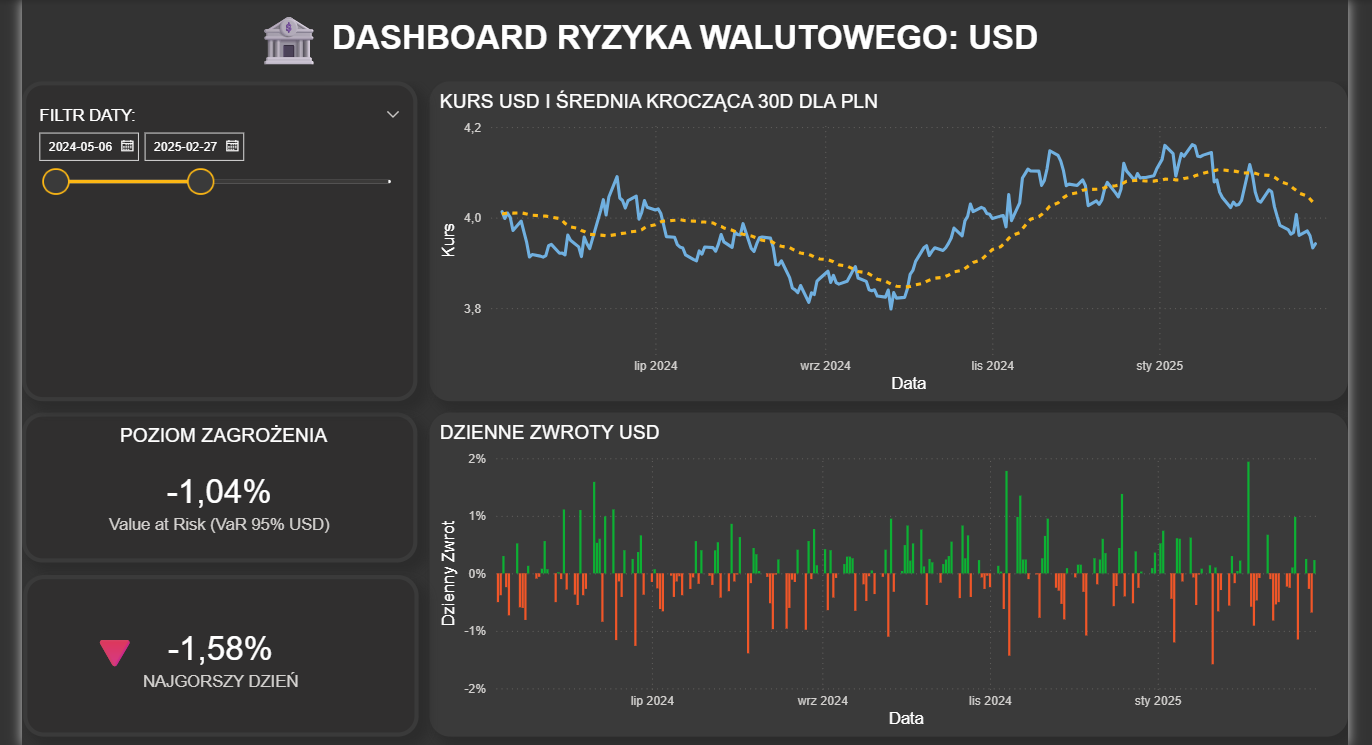

The dashboard page shown, as its layout file describes it:
{"tool":"powerbi","page":{"name":"USD","canvas":[1280,720],"ordinal":0},"visuals":[{"type":"lineChart","title":"KURS USD I ŚREDNIA KROCZĄCA 30D DLA PLN","fields":{"Category":["dane_walutowe_do_powerbi.Data"],"Y":["Sum(dane_walutowe_do_powerbi.Kurs USD)","Sum(dane_walutowe_do_powerbi.SMA 30D USD)"]},"box":[393.3,78.4,886.7,308.8],"z":0},{"type":"card","title":"POZIOM ZAGROŻENIA","fields":{"Values":["Avg(dane_walutowe_do_powerbi.VaR 95% USD)"]},"box":[0,398.1,381.2,144.8],"z":1000},{"type":"clusteredColumnChart","title":"DZIENNE ZWROTY USD","fields":{"Category":["dane_walutowe_do_powerbi.Data"],"Y":["Sum(dane_walutowe_do_powerbi.Dzienny Zwrot USD)"]},"box":[393.3,398.1,886.7,312.5],"z":2000},{"type":"slicer","fields":{"Values":["dane_walutowe_do_powerbi.Data"]},"box":[0,78.4,381.2,308.8],"z":3000},{"type":"textbox","box":[0,0,1280,78.4],"z":4000},{"type":"textbox","box":[219.6,0,72.4,78.4],"z":5000},{"type":"card","title":"MAKSYMALNA STRATA W DANYM DNIU:","fields":{"Values":["Min(dane_walutowe_do_powerbi.Dzienny Zwrot USD)"]},"box":[1.2,555,381.2,155.6],"z":6000},{"type":"textbox","box":[43.4,583.9,97.7,98.9],"z":7000}]}

Visuals, with their boxes on the page's 1280x720 design canvas (x1, y1, x2, y2). These are canvas units, not pixel positions in the 1372x745 screenshot, which may show the page scaled, cropped or inside an application window:
"KURS USD I ŚREDNIA KROCZĄCA 30D DLA PLN" lineChart: 393/78/1280/387
"POZIOM ZAGROŻENIA" card: 0/398/381/543
"DZIENNE ZWROTY USD" clusteredColumnChart: 393/398/1280/711
slicer - dane_walutowe_do_powerbi.Data: 0/78/381/387
textbox: 0/0/1280/78
textbox: 220/0/292/78
"MAKSYMALNA STRATA W DANYM DNIU:" card: 1/555/382/711
textbox: 43/584/141/683
